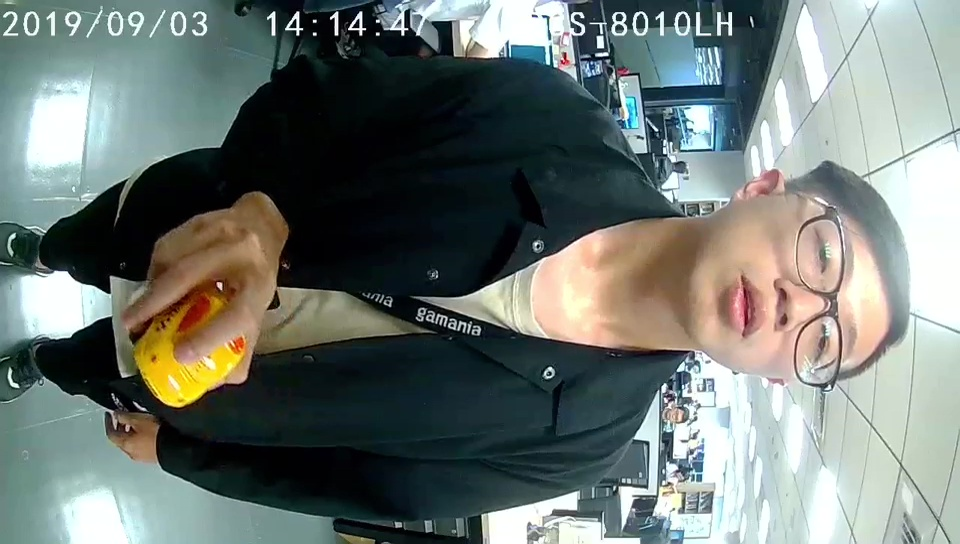car: (131, 291, 243, 409)
